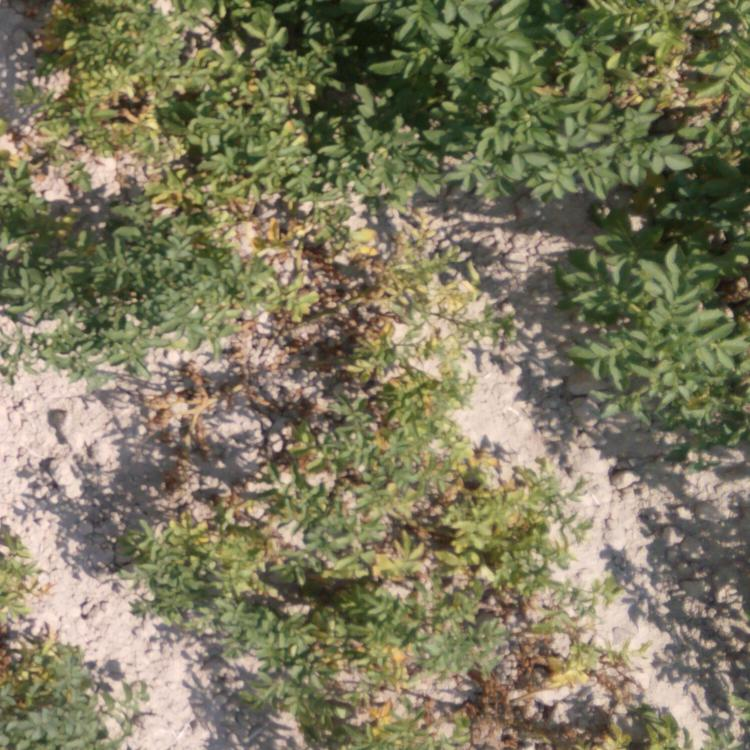healthy: (333, 3, 749, 192), (580, 227, 750, 437), (1, 213, 223, 369), (1, 632, 137, 750), (1, 524, 47, 617)
stressed: (121, 453, 588, 639), (1, 1, 313, 194), (229, 204, 471, 441), (265, 641, 697, 750), (146, 373, 196, 442)
